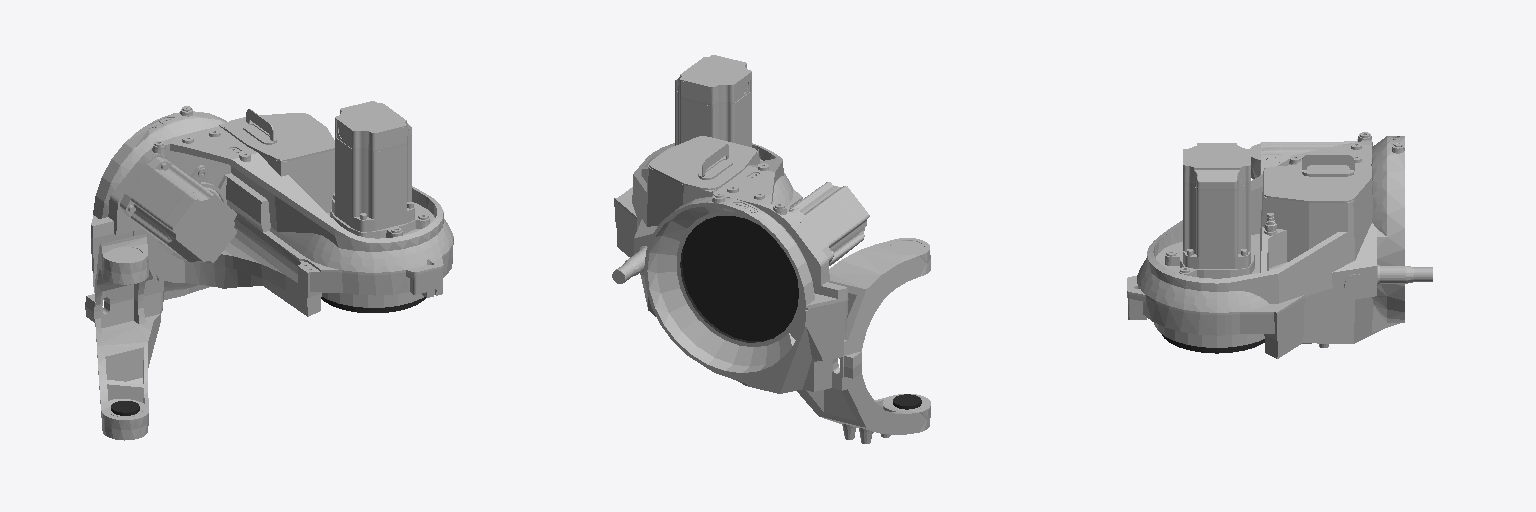
3 renders of one model, left to right at view 1: azimuth 30°, elevation 25°; view 2: azimuth 150°, elevation 25°; view 3: azimuth 270°, elevation 25°, orthographic.
Parts seen in each view (by area): view 1: IRB6700-MH3_150-320_IRC5_rev06_LINK01_CAD-0, IRB6700-MH3_150-320_IRC5_rev06_LINK01_CAD-1; view 2: IRB6700-MH3_150-320_IRC5_rev06_LINK01_CAD-0, IRB6700-MH3_150-320_IRC5_rev06_LINK01_CAD-1; view 3: IRB6700-MH3_150-320_IRC5_rev06_LINK01_CAD-0.
Part boxes in pixels (left/top/right/bottom): IRB6700-MH3_150-320_IRC5_rev06_LINK01_CAD-0: left=85, top=101, right=453, bottom=440; IRB6700-MH3_150-320_IRC5_rev06_LINK01_CAD-1: left=111, top=297, right=425, bottom=415; IRB6700-MH3_150-320_IRC5_rev06_LINK01_CAD-0: left=612, top=55, right=930, bottom=443; IRB6700-MH3_150-320_IRC5_rev06_LINK01_CAD-1: left=680, top=216, right=921, bottom=409; IRB6700-MH3_150-320_IRC5_rev06_LINK01_CAD-0: left=1127, top=132, right=1432, bottom=358.
Size of the model in its own units: 0.9431 by 0.8145 by 0.8005.